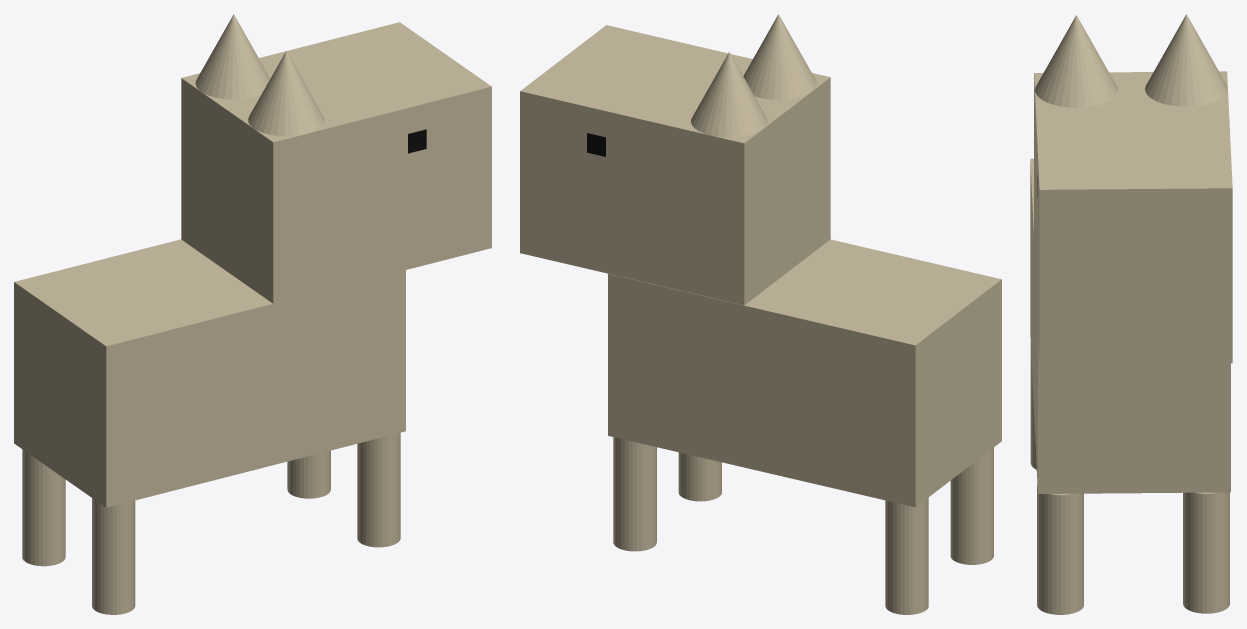
The model's file is box_dog.dae.
3 renders of one model, left to right at view 1: azimuth 30°, elevation 25°; view 2: azimuth 150°, elevation 25°; view 3: azimuth 270°, elevation 25°, orthographic. The views are drawn at different scales.
Parts seen in each view (by area): view 1: Cube_002, Cube_001, Cylinder_003, Cylinder, Cylinder_001, Cone, Cone_001, Cylinder_002; view 2: Cube_002, Cube_001, Cylinder_001, Cylinder_002, Cylinder_003, Cone_001, Cone, Cylinder; view 3: Cube_001, Cube_002, Cylinder_002, Cylinder, Cone_001, Cone, Cylinder_003.
Part boxes in pixels (x1,y1,x2,y2): Cube_002: [14, 239, 405, 507]; Cube_001: [181, 22, 491, 303]; Cylinder_003: [92, 498, 135, 614]; Cylinder: [357, 433, 400, 547]; Cylinder_001: [22, 449, 65, 566]; Cone: [248, 51, 324, 136]; Cone_001: [195, 14, 270, 99]; Cylinder_002: [287, 450, 330, 498]; Cube_002: [608, 239, 1001, 507]; Cube_001: [520, 25, 830, 305]; Cylinder_001: [885, 497, 928, 614]; Cylinder_002: [613, 437, 656, 551]; Cylinder_003: [950, 447, 993, 564]; Cone_001: [691, 52, 767, 137]; Cone: [743, 14, 816, 99]; Cylinder: [678, 452, 721, 501]; Cube_001: [1034, 71, 1232, 364]; Cube_002: [1030, 158, 1230, 493]; Cylinder_002: [1183, 492, 1229, 613]; Cylinder: [1037, 485, 1083, 614]; Cone_001: [1145, 14, 1227, 106]; Cone: [1035, 15, 1117, 107]; Cylinder_003: [1030, 345, 1036, 469].
Size of the model in its own units: 5.09 by 2.1 by 6.23.
